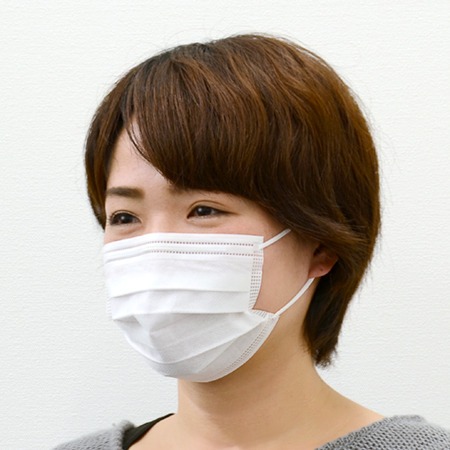mask: (103, 234, 282, 381)
